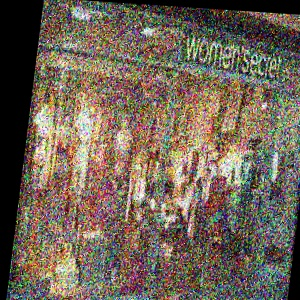women_secret: (173, 34, 300, 68)
